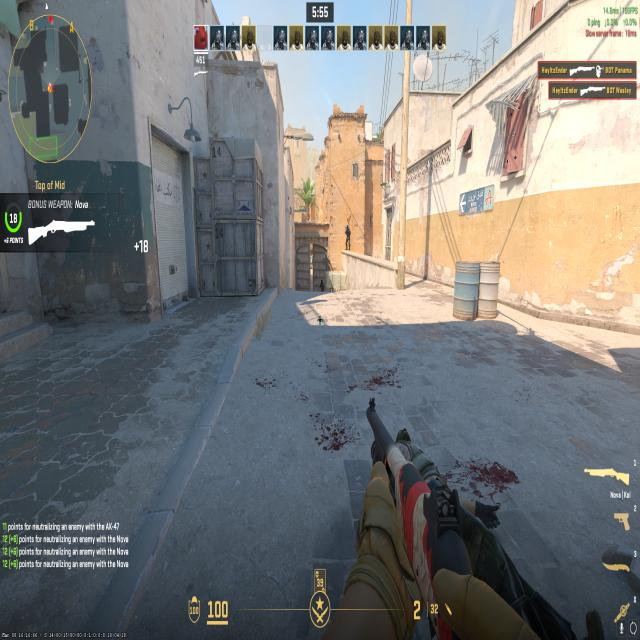ct: (343, 219, 352, 257), (318, 277, 324, 292)
